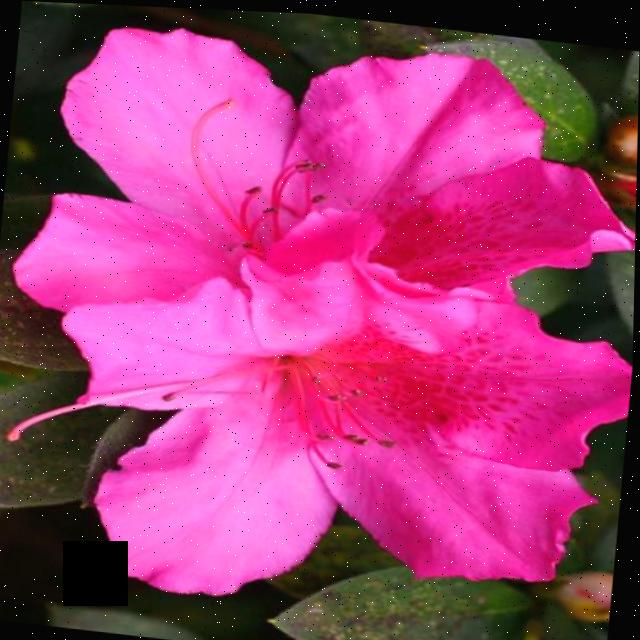azalea: (0, 30, 639, 606)
